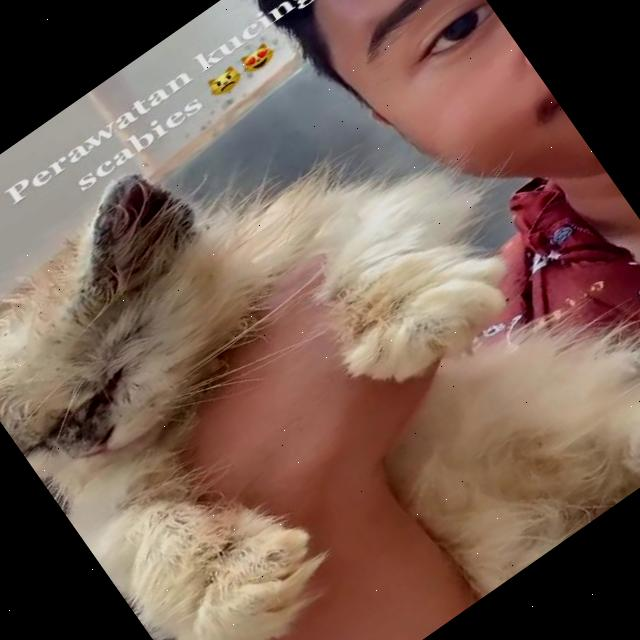cat-scabies: (44, 150, 212, 311), (36, 394, 116, 469)
